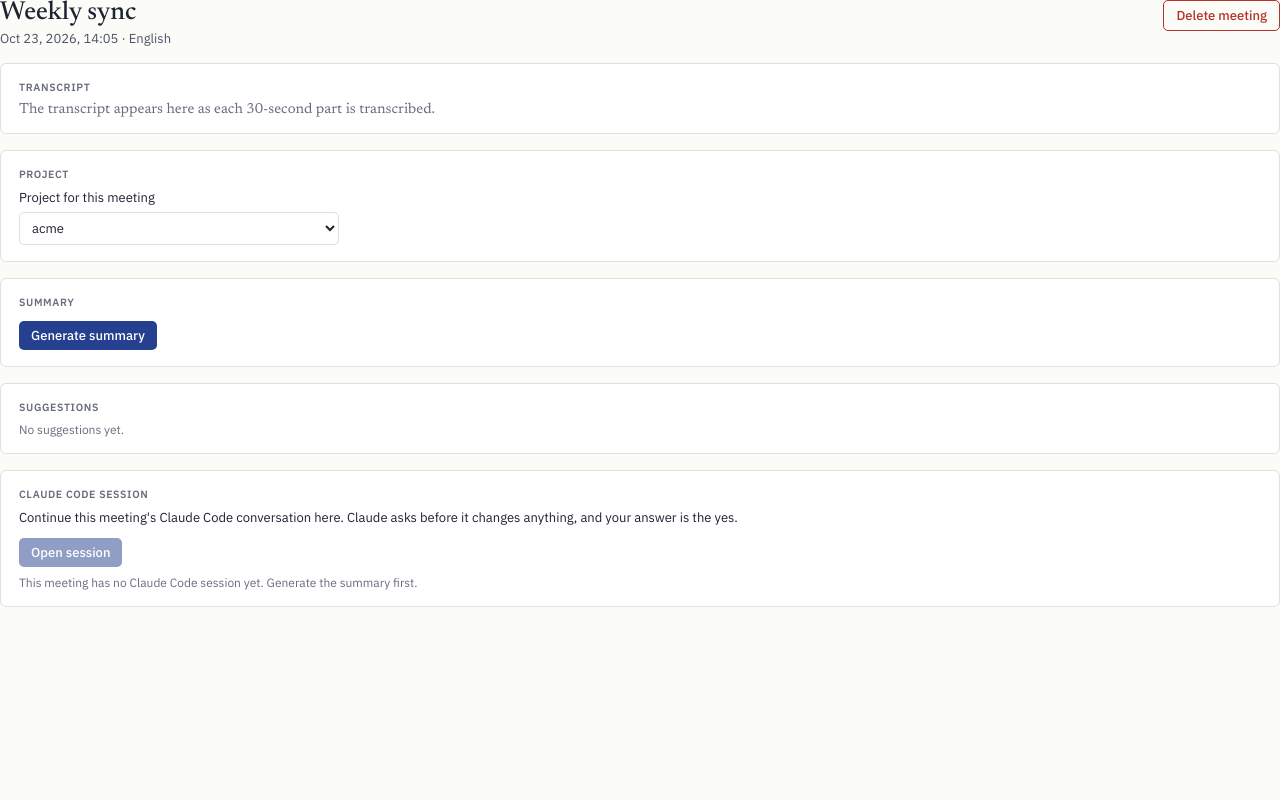
Scenario: one audio file reads in the singular
Expected: the heading "Weekly sync" is shown, [0, 0, 136, 26]
Click the button "Delete meeting": (1222, 16) [1163, 0, 1279, 31]
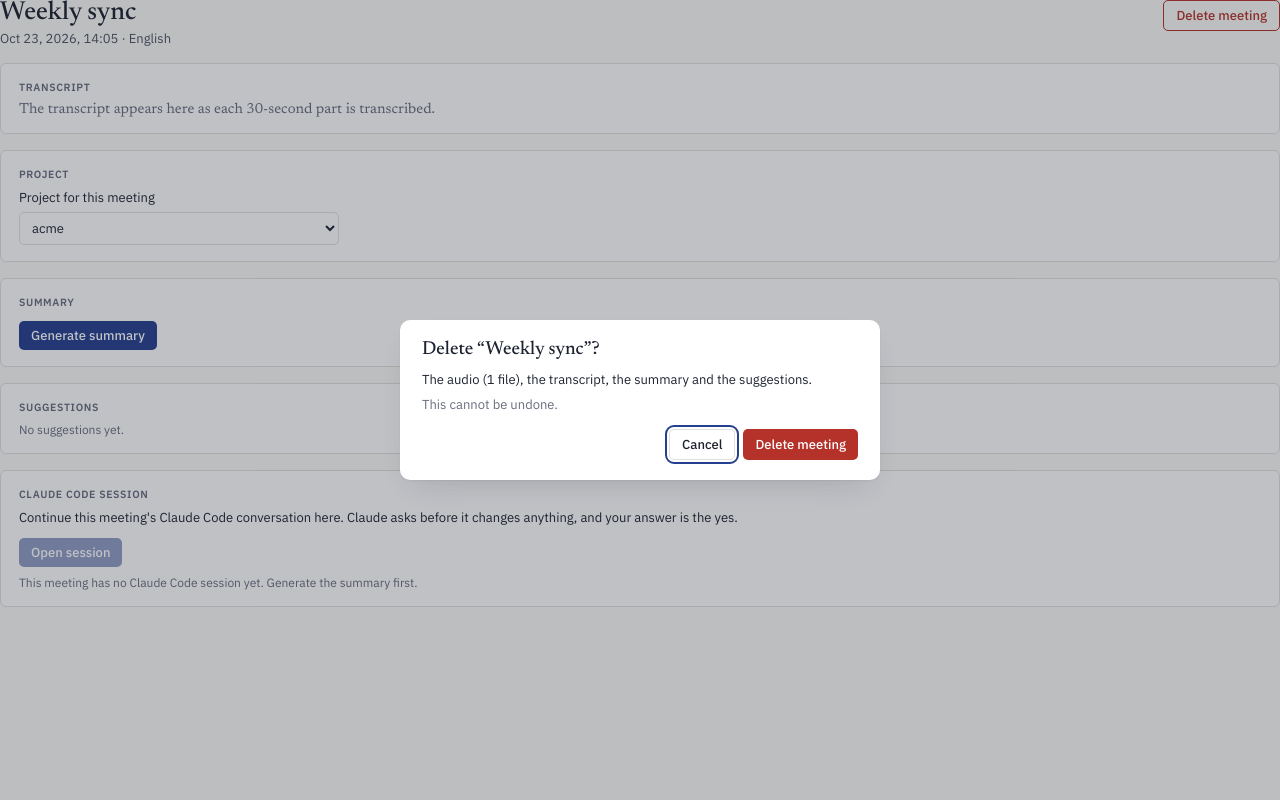
Expected: the text "The audio (1 file), the transcript, the summary and the suggestions." is shown, [422, 371, 858, 388]
